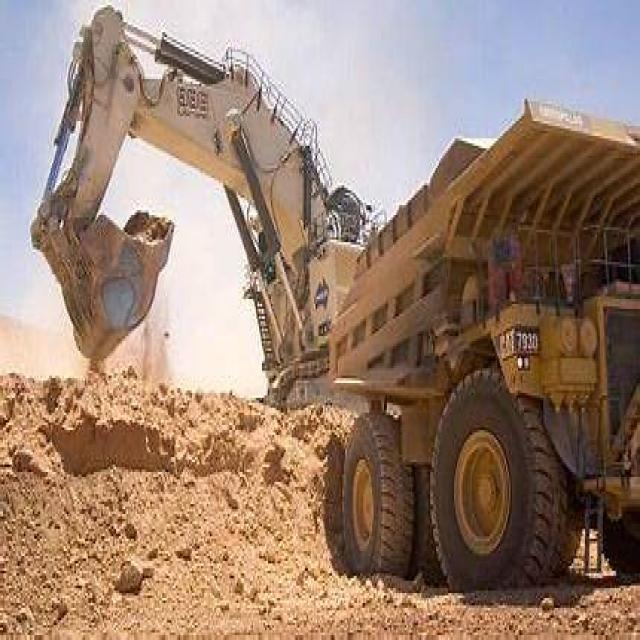dump_truck: (294, 89, 638, 593)
excavator: (28, 2, 377, 480)
